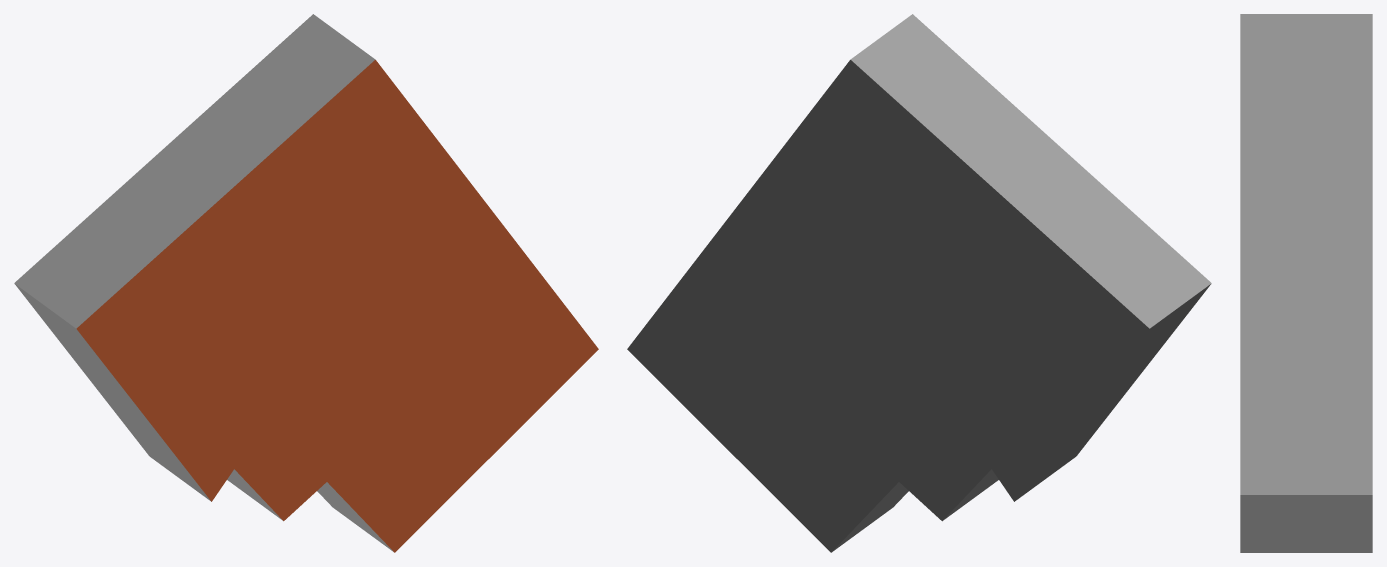
File: construction_0911_actual_A_Casa_h6m.obj
The picture shows the model from 3 angles, left to right: view 1: azimuth 30°, elevation 25°; view 2: azimuth 150°, elevation 25°; view 3: azimuth 270°, elevation 25°; orthographic projection. The views are drawn at different scales.
Parts seen in each view (by area): view 1: construction_0911_actual_A_Casa; view 2: construction_0911_actual_A_Casa; view 3: construction_0911_actual_A_Casa.
Part boxes in pixels (x1,y1,x2,y2): construction_0911_actual_A_Casa: (14, 14, 598, 552); construction_0911_actual_A_Casa: (627, 14, 1211, 552); construction_0911_actual_A_Casa: (1240, 14, 1372, 552).
Bounding box in the file's own units: 29.1 × 26.51 × 6.
